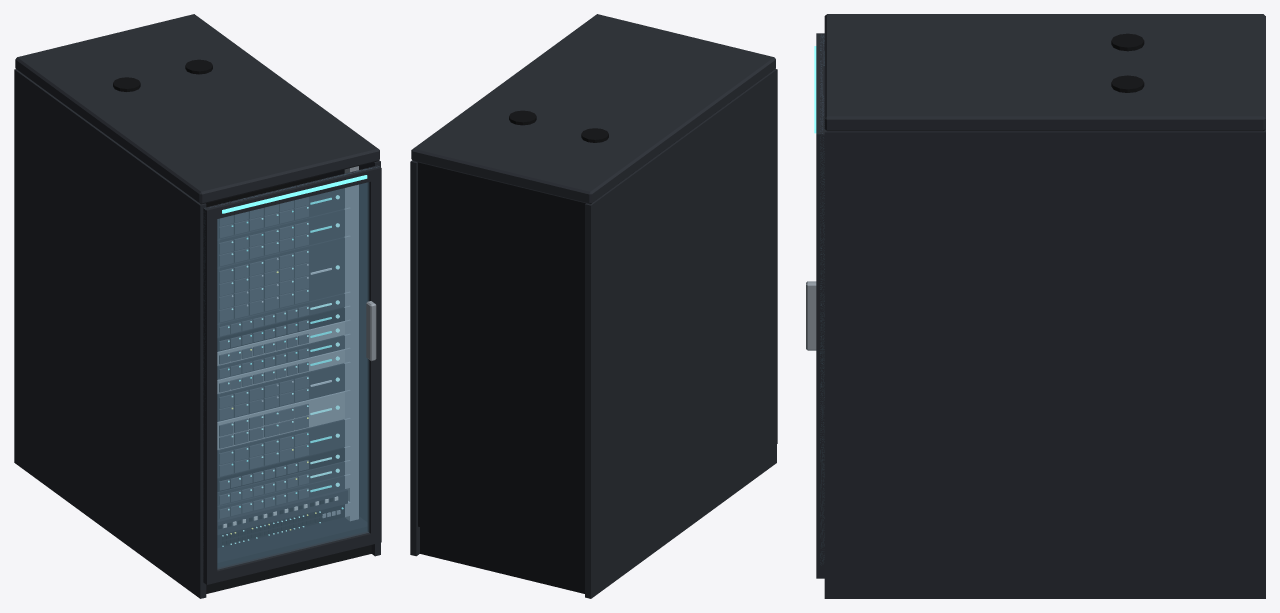
The model's file is 03_Server_Rack_24U_Half.fbx.
3 renders of one model, left to right at view 1: azimuth 30°, elevation 25°; view 2: azimuth 150°, elevation 25°; view 3: azimuth 270°, elevation 25°, orthographic. The views are drawn at different scales.
Parts seen in each view (by area): view 1: 03_Server_Rack_24U_Half; view 2: 03_Server_Rack_24U_Half; view 3: 03_Server_Rack_24U_Half.
Boxes of the visible parts, bbox=[...] form: 03_Server_Rack_24U_Half: bbox=[14, 14, 381, 598]; 03_Server_Rack_24U_Half: bbox=[410, 14, 777, 598]; 03_Server_Rack_24U_Half: bbox=[806, 14, 1265, 598].
Size of the model in its own units: 60 by 130 by 112.
